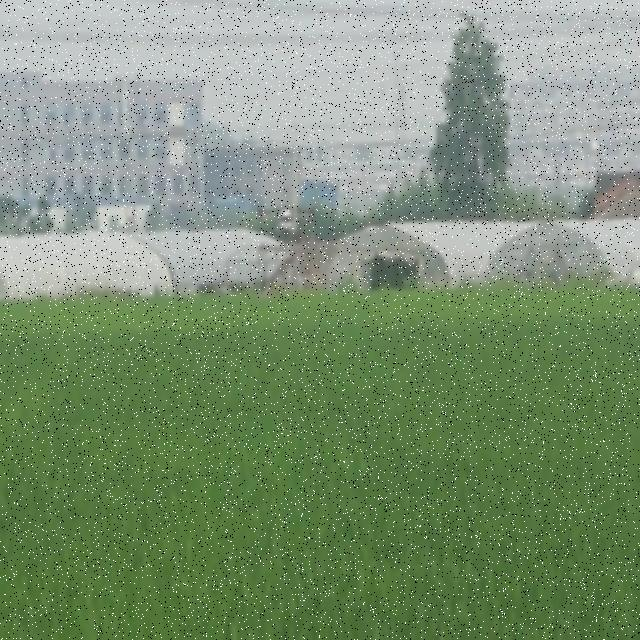UAV: (258, 206, 314, 236)
